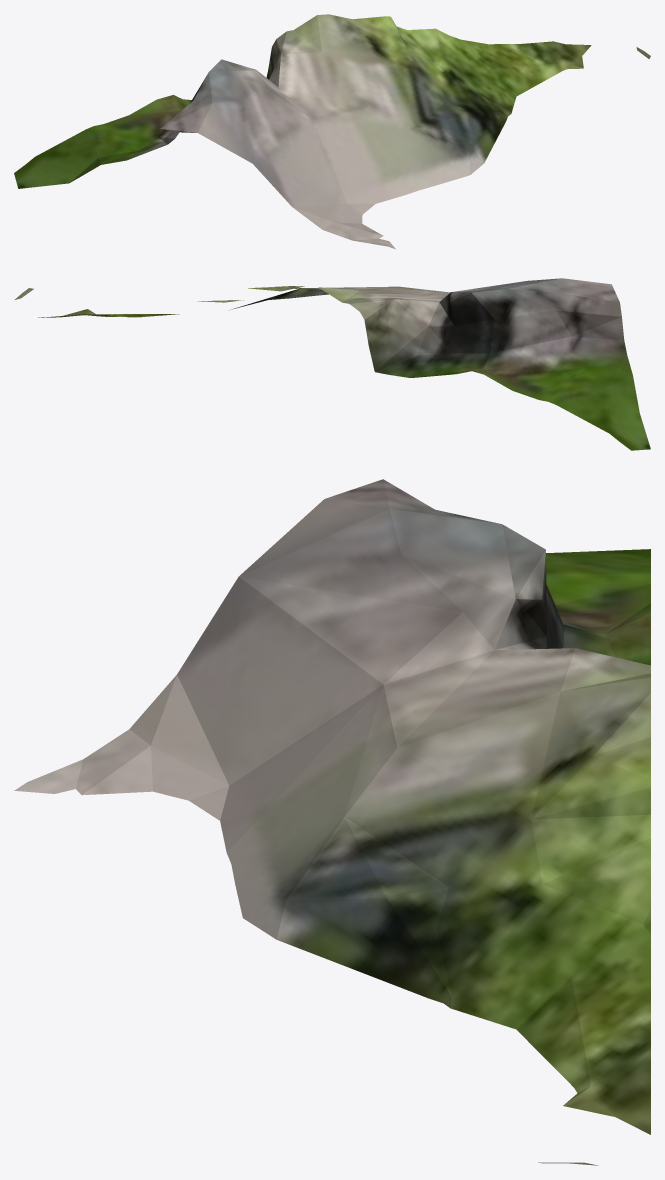
The picture shows the model from 3 angles, top to bottom: view 1: azimuth 30°, elevation 25°; view 2: azimuth 150°, elevation 25°; view 3: azimuth 270°, elevation 25°; orthographic projection. The views are drawn at different scales.
Bounding box in the file's own units: 9.16 × 1.47 × 4.13.
Materials: 1 (1 with a texture image).
